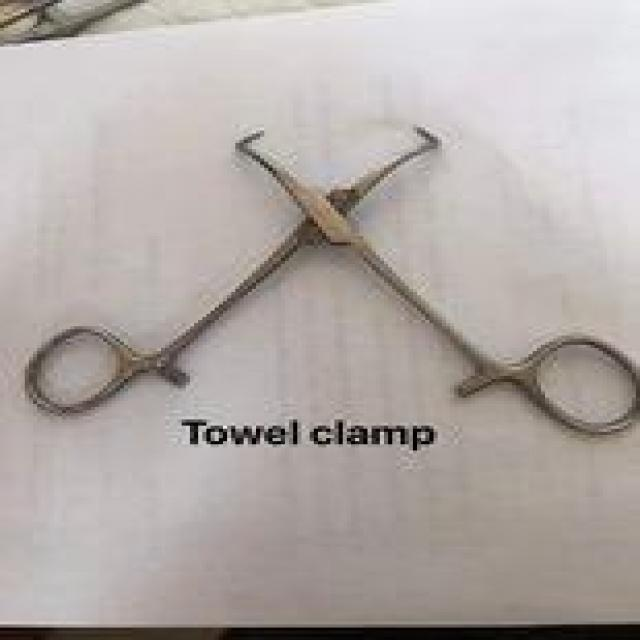Towel_clip: (21, 121, 636, 448)
